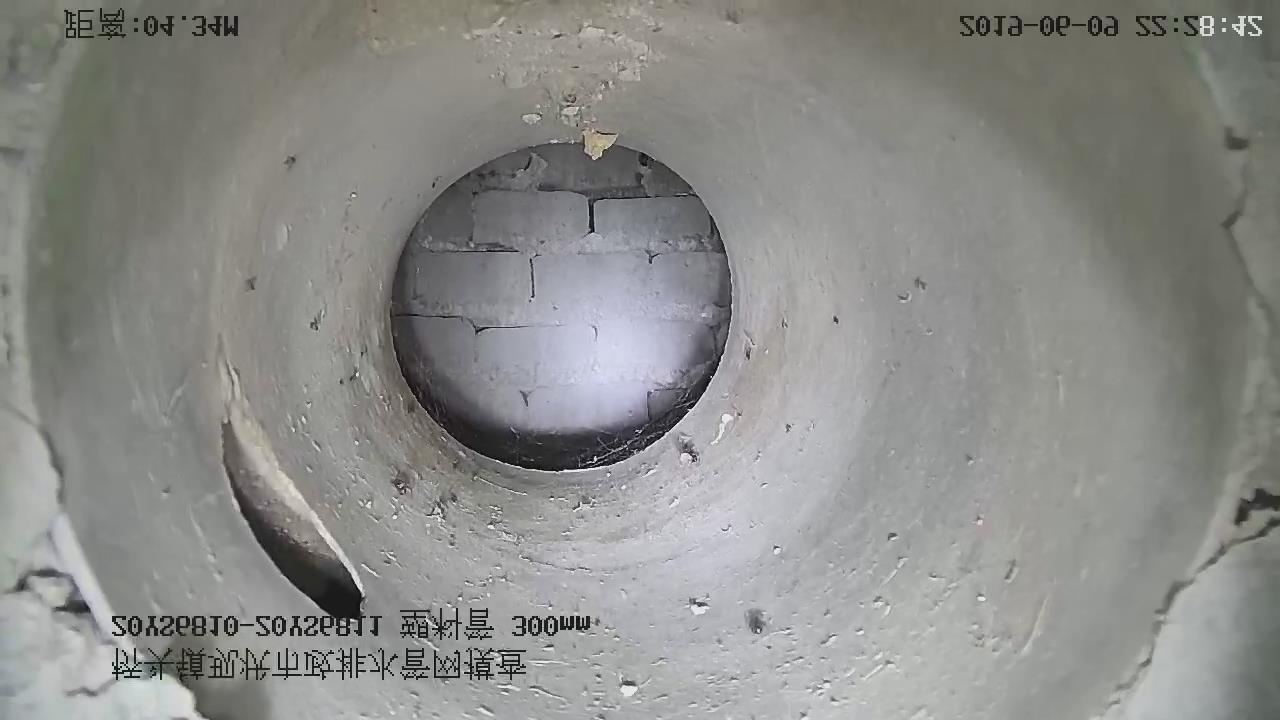CQBG: (392, 145, 731, 470)
PL: (220, 360, 365, 618)
